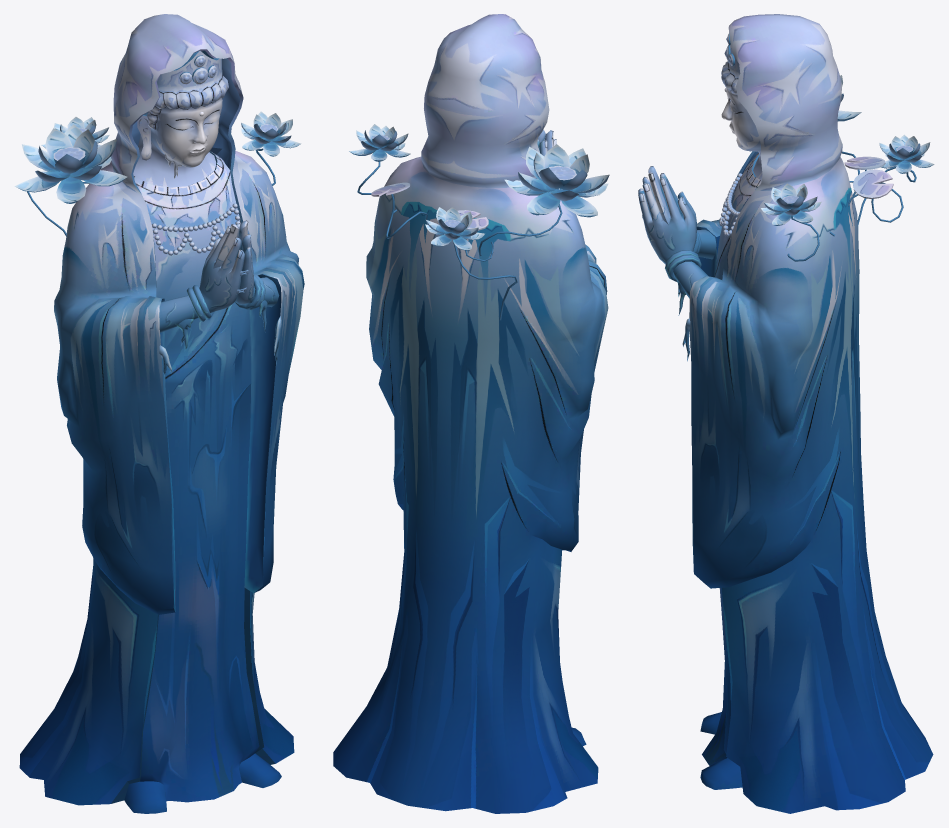
Rendered from role_shuilianpusa.glb.
3 renders of one model, left to right at view 1: azimuth 30°, elevation 25°; view 2: azimuth 150°, elevation 25°; view 3: azimuth 270°, elevation 25°, orthographic. The views are drawn at different scales.
Parts seen in each view (by area): view 1: shuilianpusa, shuilian; view 2: shuilianpusa, shuilian; view 3: shuilianpusa, shuilian.
Boxes of the visible parts, <box> form: shuilianpusa: <box>19,14,304,813</box>; shuilian: <box>14,111,301,236</box>; shuilianpusa: <box>333,14,608,813</box>; shuilian: <box>349,124,609,320</box>; shuilianpusa: <box>638,14,933,813</box>; shuilian: <box>761,75,934,261</box>.
Bounding box in the file's own units: 6.12 × 16.61 × 6.04.
Materials: 1 (1 with a texture image).
